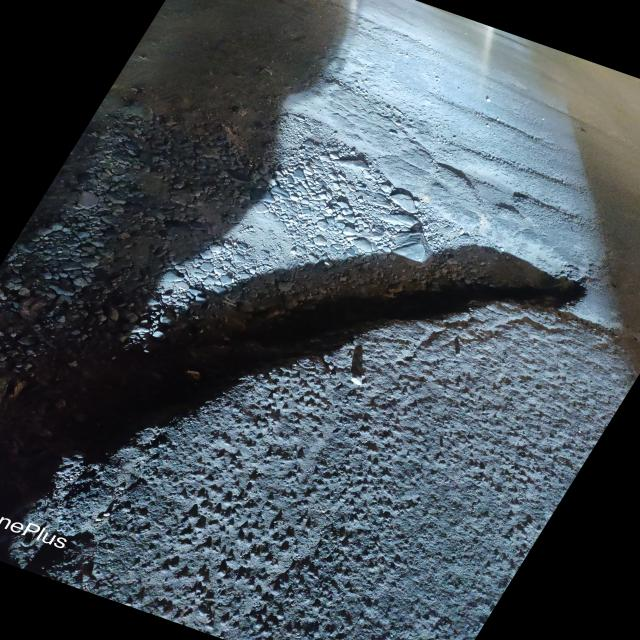potholes: (13, 233, 588, 505)
